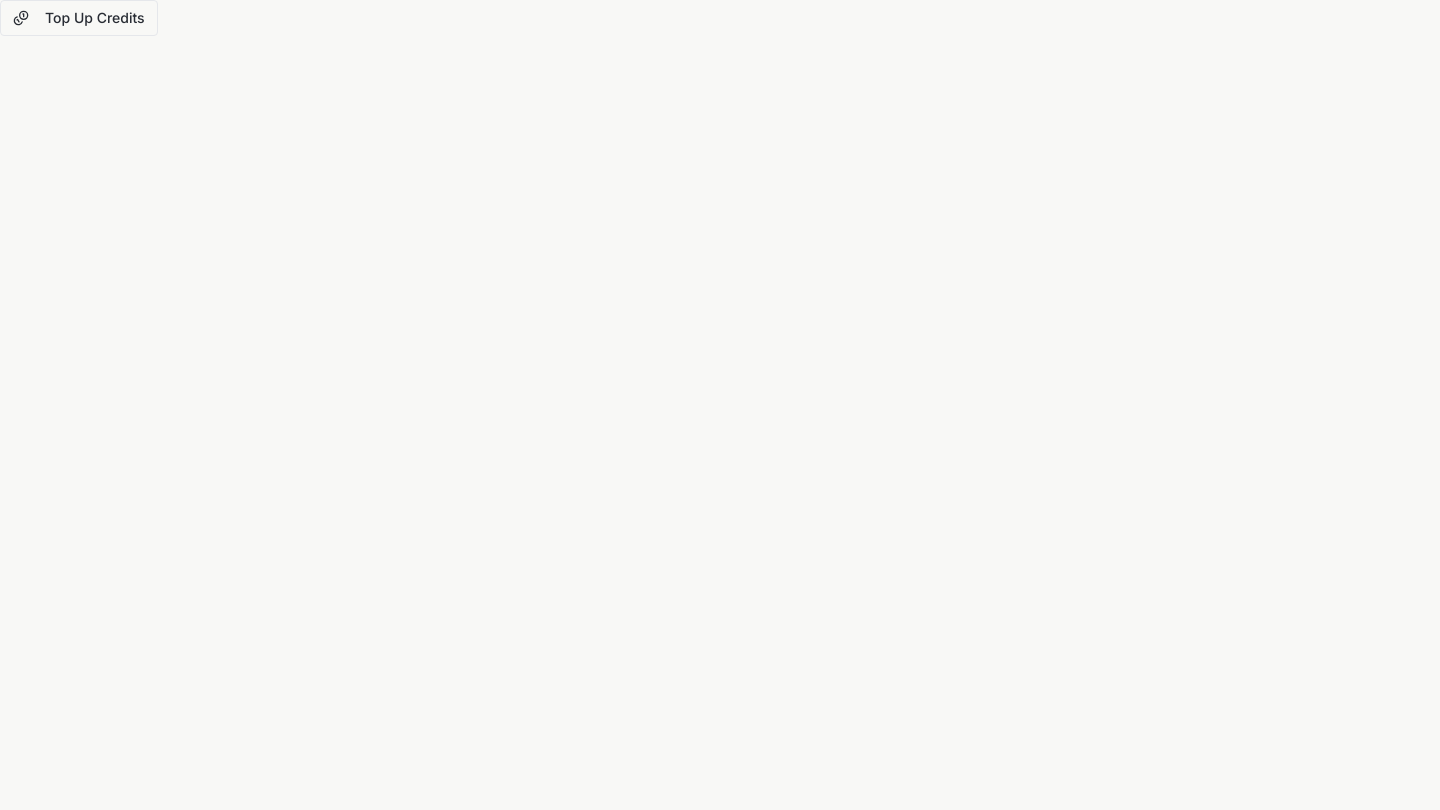
it: TopUpCredits › should handle API errors
The image size is (1440, 810).
Click the button "Top Up Credits".
click(79, 18)  # box [0,0,158,36]
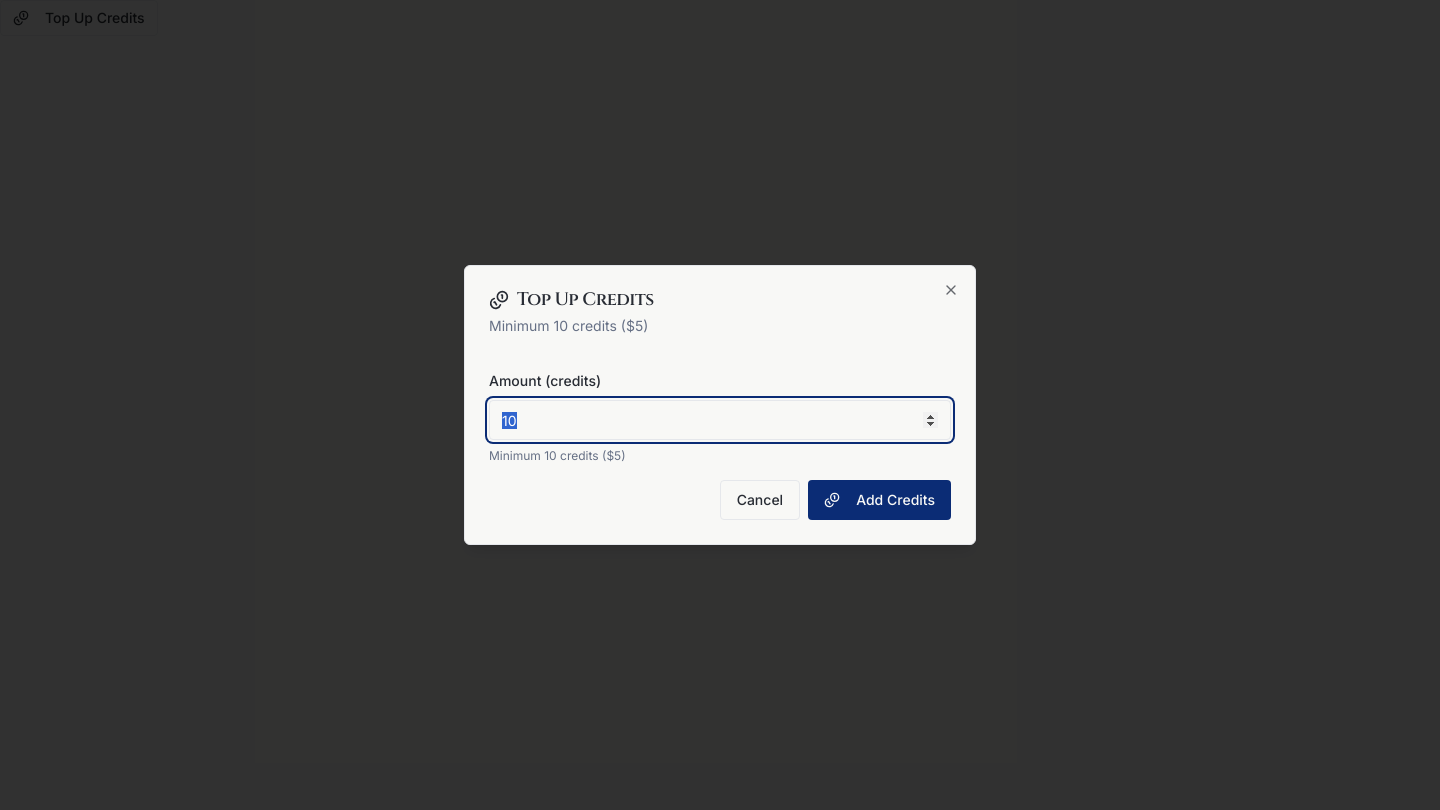
Expected: the number field labelled "Amount (credits)" is shown
Replace the text in the number field labelled "Amount (credits)" with "20" at coordinates (720, 420), box [489,400,951,440]
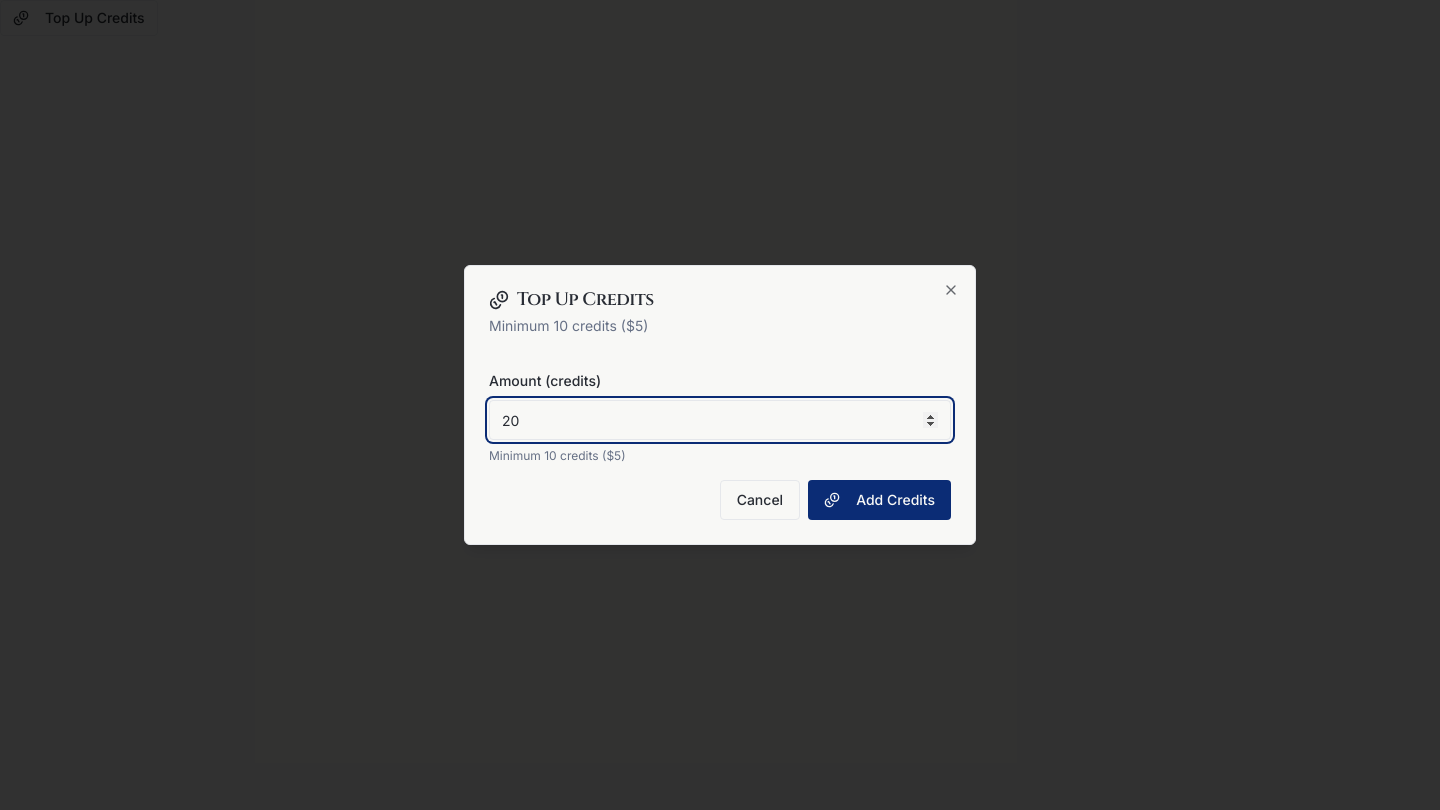
Click the button "Add Credits".
click(880, 500)  # box [808,480,951,520]
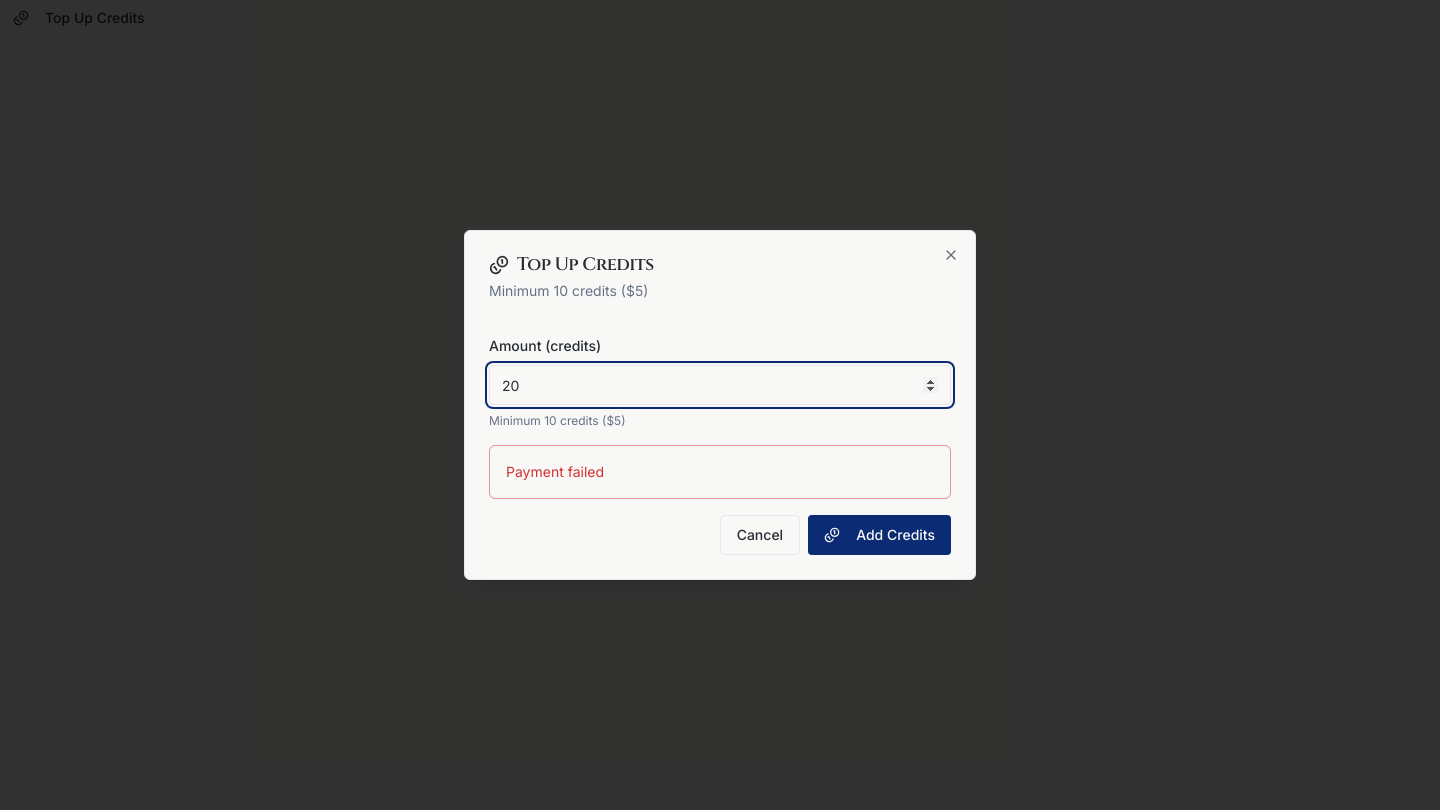
Expected: the text "Payment failed" is shown, [506,463,604,480]
